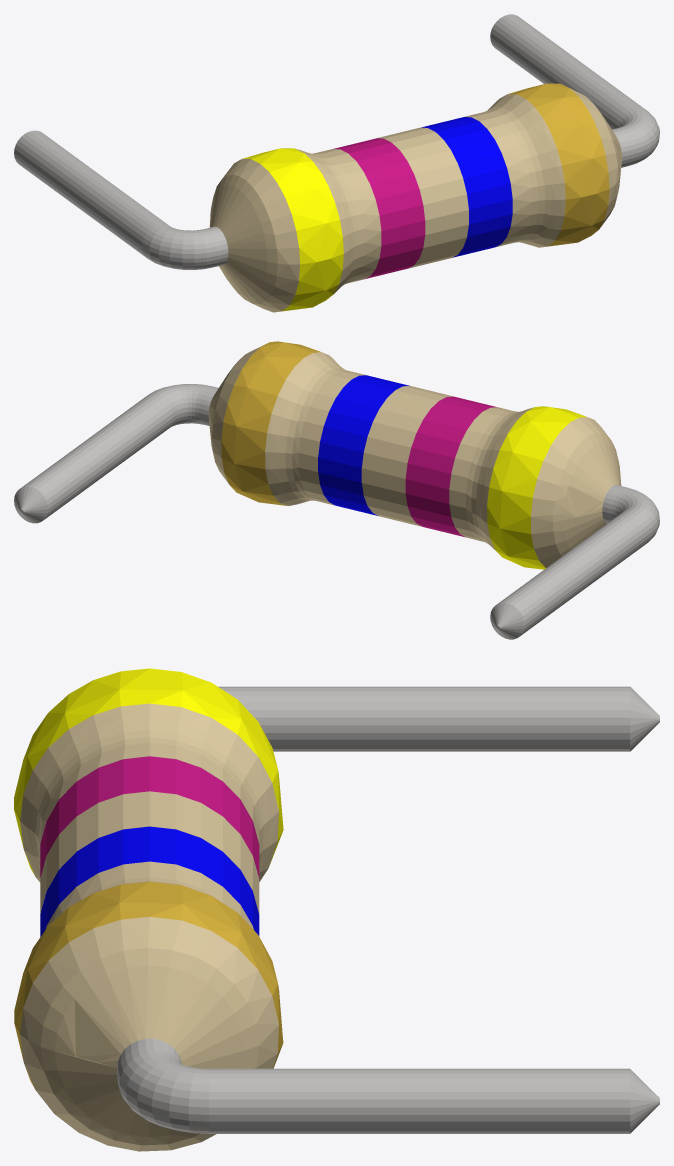
The model's file is Yageo CFR-25 Resistor Axial P7.62mm 47,0 MOhm.obj.
3 views of the same model, one above another, from view 1: azimuth 30°, elevation 25°; view 2: azimuth 150°, elevation 25°; view 3: azimuth 270°, elevation 25° (orthographic). The views are drawn at different scales.
Parts seen in each view (by area): view 1: Yageo_CFR-25_Resistor_Axial_P7.62mm_47,0_MOhm; view 2: Yageo_CFR-25_Resistor_Axial_P7.62mm_47,0_MOhm; view 3: Yageo_CFR-25_Resistor_Axial_P7.62mm_47,0_MOhm.
Boxes of the visible parts, bbox=[...] form: Yageo_CFR-25_Resistor_Axial_P7.62mm_47,0_MOhm: bbox=[14, 14, 659, 312]; Yageo_CFR-25_Resistor_Axial_P7.62mm_47,0_MOhm: bbox=[14, 341, 659, 639]; Yageo_CFR-25_Resistor_Axial_P7.62mm_47,0_MOhm: bbox=[14, 668, 659, 1151].
Size of the model in its own units: 0.0206 by 0.00568 by 0.0137.
